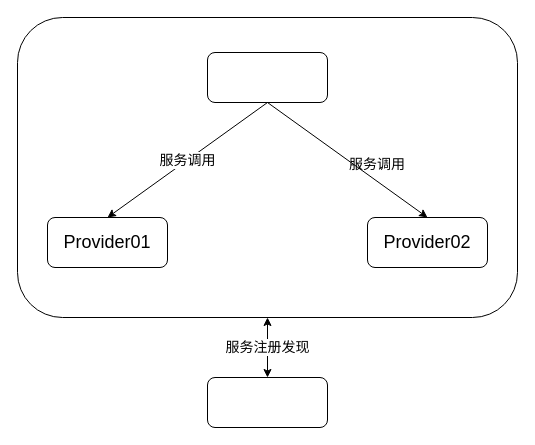
Image size: 535x445. Some labels were removed from this diagram. The centre of each missing label's shape, as x and y in pixels:
"Consumer" goes at [267,77].
"Eureka" goes at [267,402].
